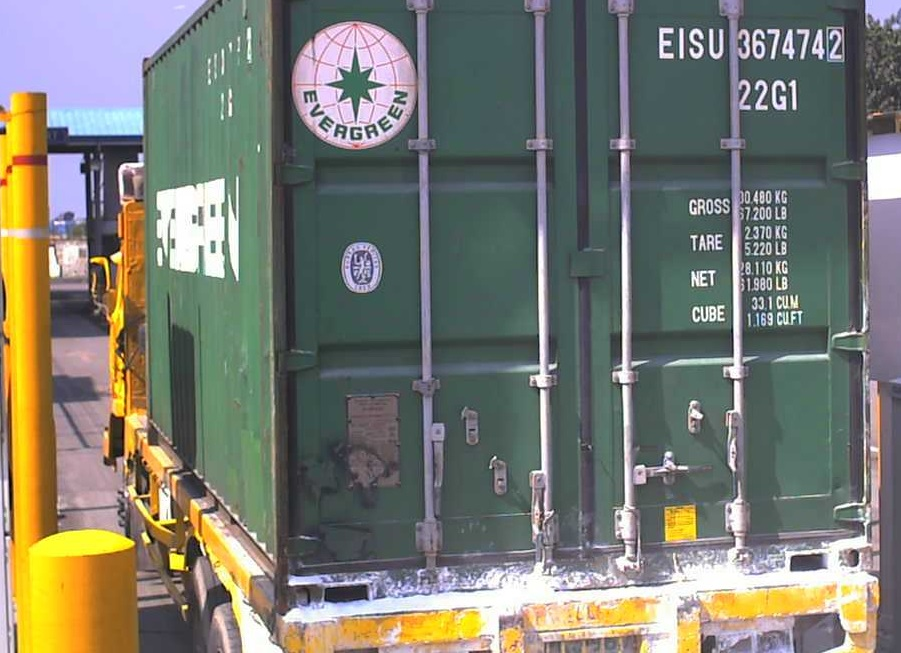container_door: (265, 3, 880, 632)
